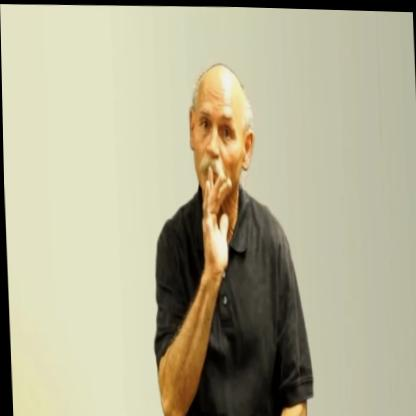Talk: (182, 49, 260, 286)
